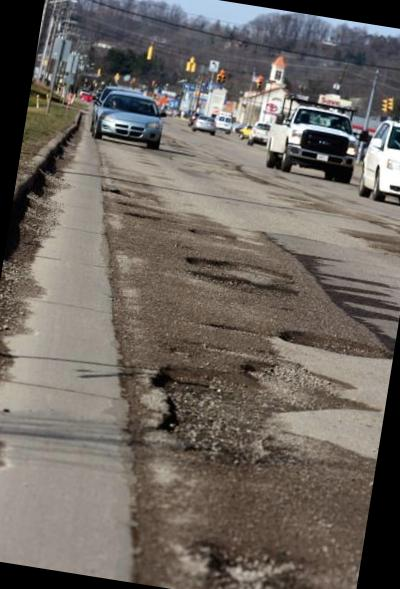pothole: (130, 330, 380, 492), (155, 506, 311, 589), (271, 318, 396, 375), (169, 263, 308, 312), (178, 246, 306, 286), (336, 222, 400, 288), (214, 154, 292, 203), (185, 221, 266, 251), (106, 200, 172, 232), (91, 176, 142, 207), (366, 215, 400, 253)
